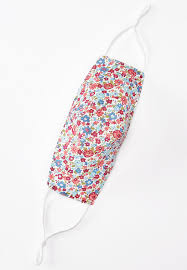cloth_mask: (23, 1, 157, 267)
